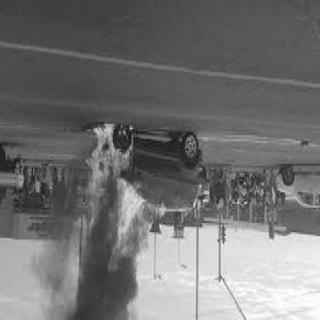Smoke: (73, 228, 140, 320)
